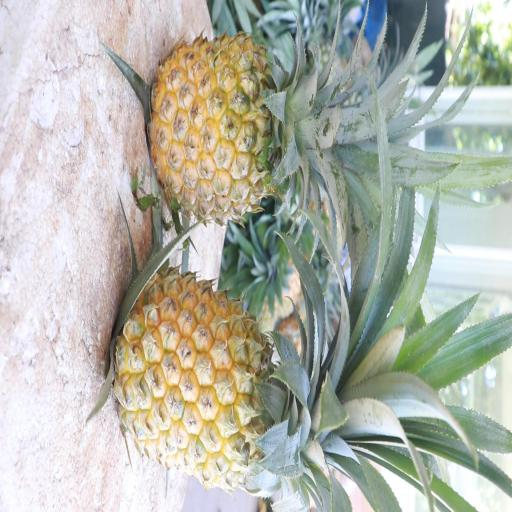Pineapple - v8 v1: (109, 266, 367, 485), (146, 31, 351, 230)
